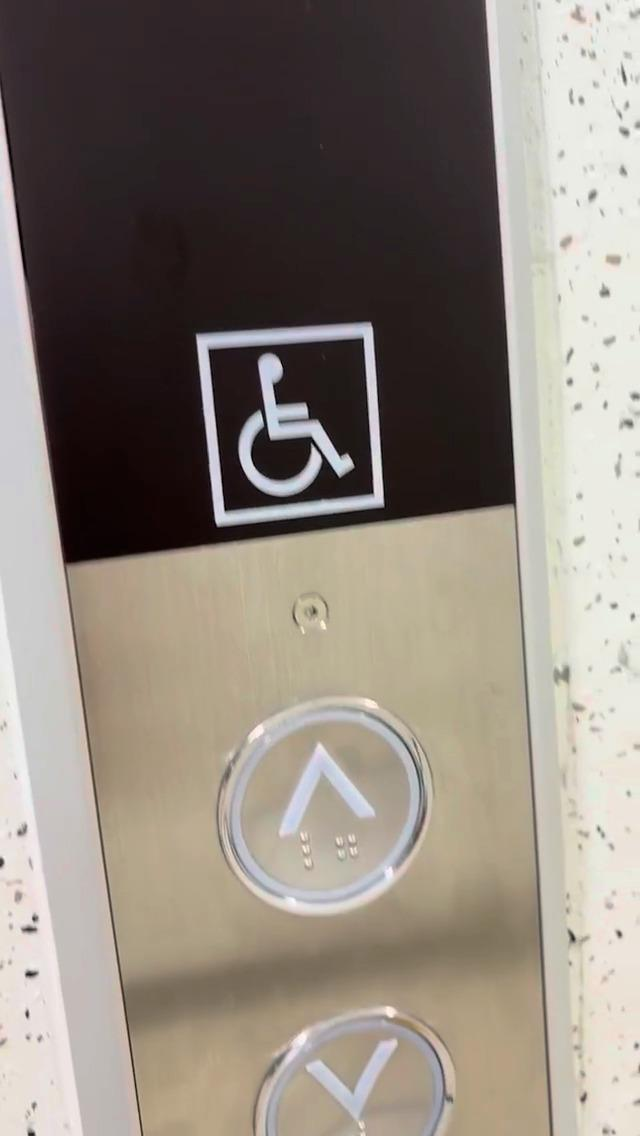button: (216, 714, 440, 919), (267, 1027, 450, 1136)
